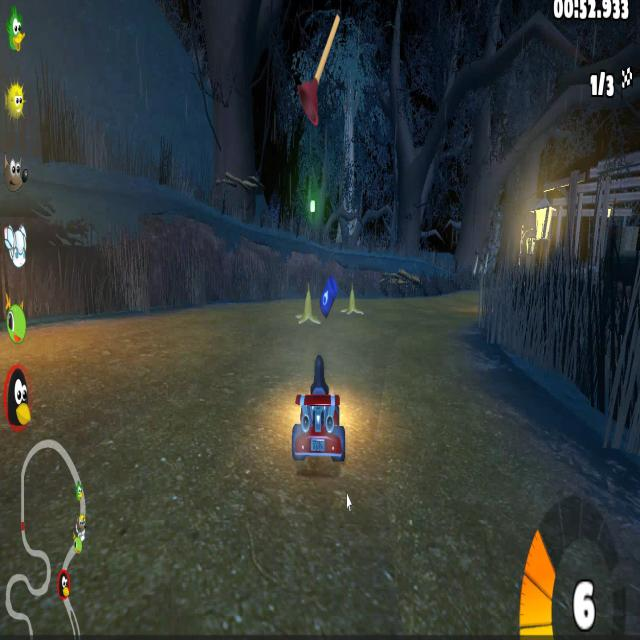obstacle: (297, 282, 316, 325), (342, 287, 363, 319)
track: (72, 325, 288, 630), (344, 350, 517, 640), (294, 468, 344, 625), (415, 303, 482, 341), (366, 296, 412, 344), (294, 331, 340, 367), (202, 299, 286, 318), (412, 296, 484, 300), (345, 331, 366, 332)
